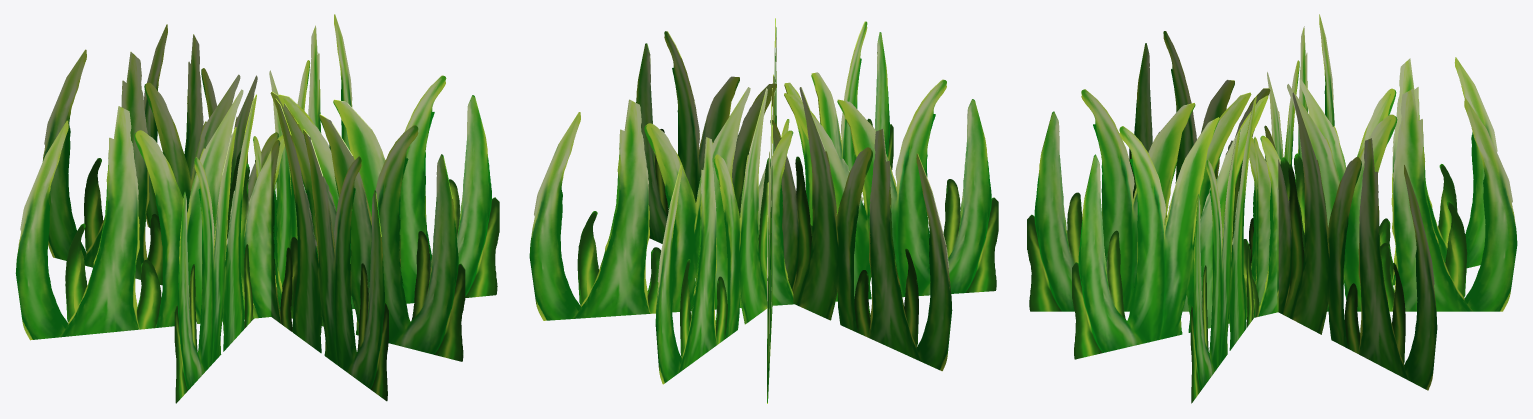
The model's file is grass1.fbx.
3 renders of one model, left to right at view 1: azimuth 30°, elevation 25°; view 2: azimuth 150°, elevation 25°; view 3: azimuth 270°, elevation 25°, orthographic. The views are drawn at different scales.
Visible parts, largest first — view 1: b116302d-b35a-4898-bc3a-6c051291b833; view 2: b116302d-b35a-4898-bc3a-6c051291b833; view 3: b116302d-b35a-4898-bc3a-6c051291b833.
Boxes of the visible parts, left/top/right/bottom form: b116302d-b35a-4898-bc3a-6c051291b833: left=15, top=14, right=499, bottom=403; b116302d-b35a-4898-bc3a-6c051291b833: left=529, top=18, right=998, bottom=403; b116302d-b35a-4898-bc3a-6c051291b833: left=1027, top=14, right=1517, bottom=403.
Bounding box in the file's own units: 182 × 97.53 × 190.
